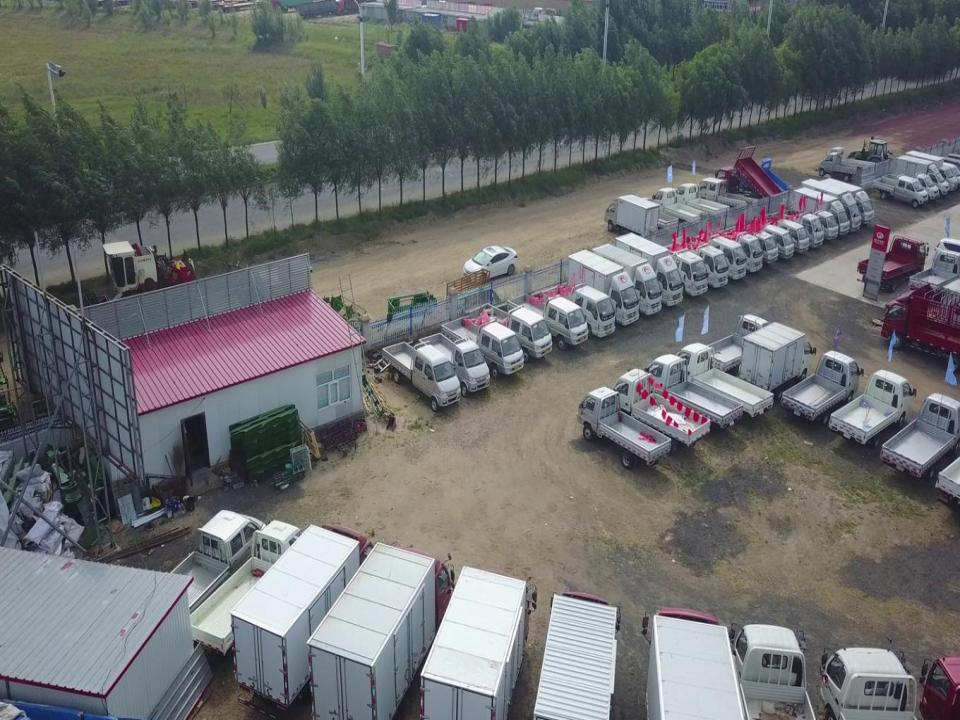car: (879, 392, 960, 482), (462, 245, 516, 280)
truck: (232, 521, 367, 720), (304, 539, 452, 720), (421, 565, 539, 718), (176, 520, 302, 652), (146, 508, 266, 628), (642, 607, 745, 720), (534, 589, 622, 720), (730, 622, 818, 718), (575, 386, 673, 468), (614, 369, 711, 451), (640, 354, 744, 428), (675, 343, 773, 417), (826, 370, 917, 449), (780, 350, 865, 424), (737, 321, 816, 397), (879, 290, 960, 362), (379, 342, 462, 411), (565, 249, 640, 325), (589, 242, 663, 316), (440, 317, 524, 379), (616, 232, 684, 308), (466, 302, 553, 360), (507, 292, 591, 350), (415, 332, 490, 395), (714, 143, 780, 210), (856, 232, 931, 290), (546, 281, 617, 338), (704, 314, 768, 374), (643, 238, 709, 295), (668, 233, 730, 288), (800, 179, 862, 232), (788, 187, 850, 238), (700, 230, 764, 274), (687, 234, 750, 278), (602, 193, 659, 240), (695, 176, 757, 219), (707, 228, 779, 264), (818, 176, 874, 222), (892, 155, 950, 199), (903, 149, 959, 192), (652, 187, 706, 228), (676, 183, 730, 223), (909, 251, 959, 294), (782, 209, 838, 245), (875, 173, 928, 210), (742, 159, 788, 201), (632, 196, 679, 234), (888, 171, 940, 205), (778, 211, 824, 247), (827, 146, 880, 176), (816, 153, 865, 180), (926, 154, 960, 187)
van: (764, 223, 796, 260), (777, 219, 810, 252), (932, 237, 960, 274)
